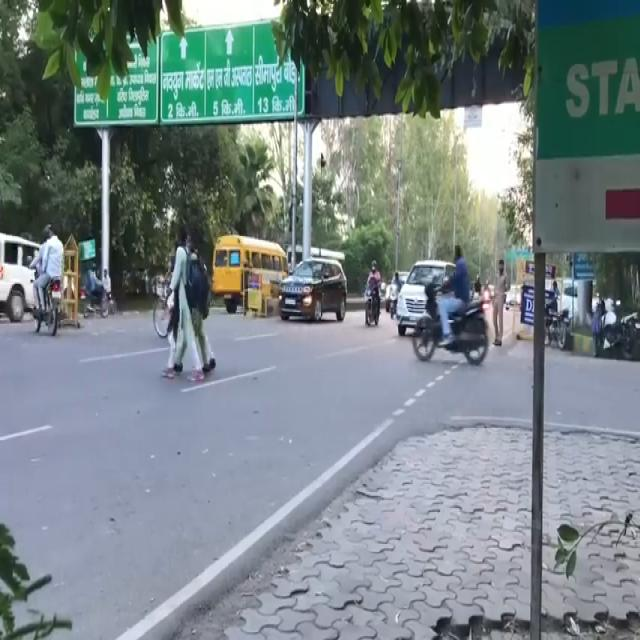BUS: (212, 232, 290, 314)
MOTORCYCLE: (401, 280, 488, 368), (31, 262, 62, 335), (362, 279, 380, 324)
